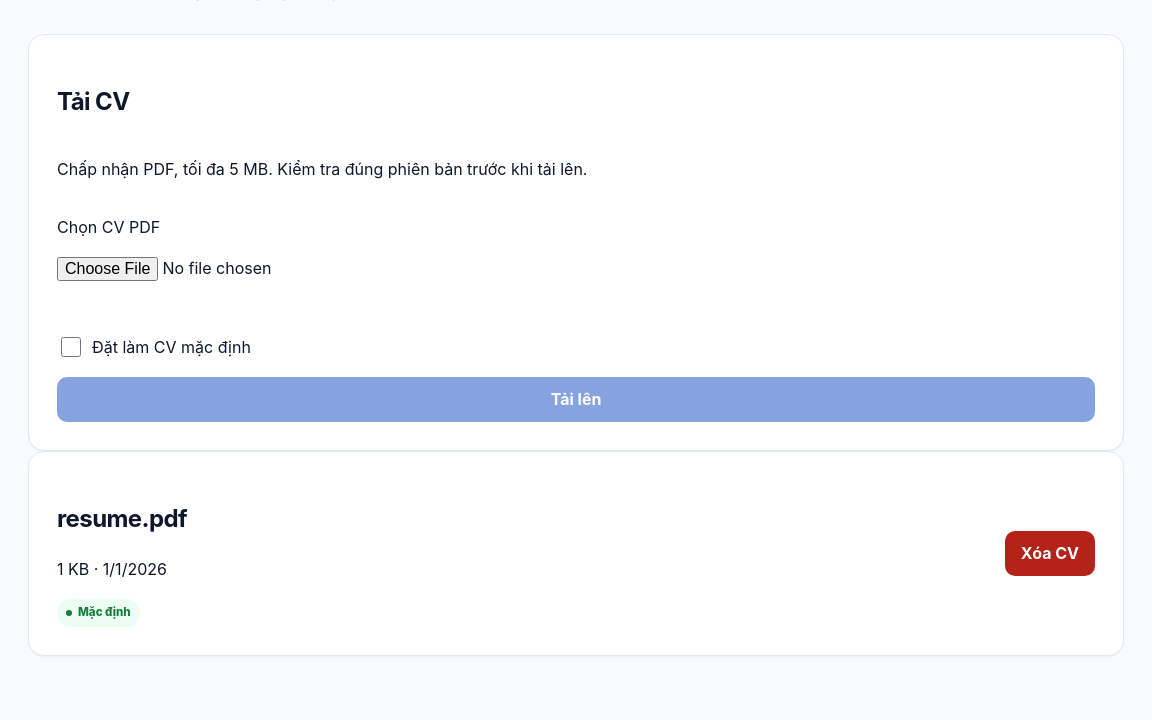
Test: UX journeys › confirms CV deletion and presents recoverable errors
The image size is (1152, 720).
(page scrolled)
What coordinates should you click on to do the following:
click the button named "Xóa resume.pdf"
I would click on:
 (1050, 554)
Its box is [1005,531,1095,576].
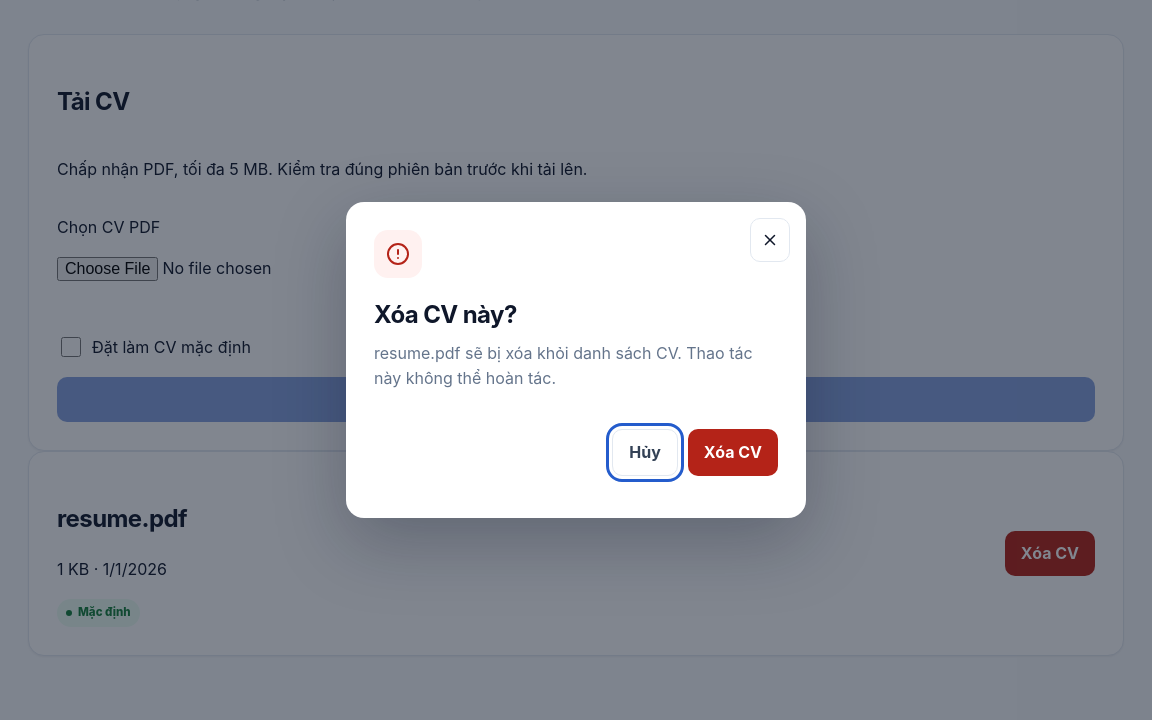
What coordinates should you click on to do the following:
click the button "Xóa CV"
I would click on:
 (733, 452)
Its box is [688,429,778,476].
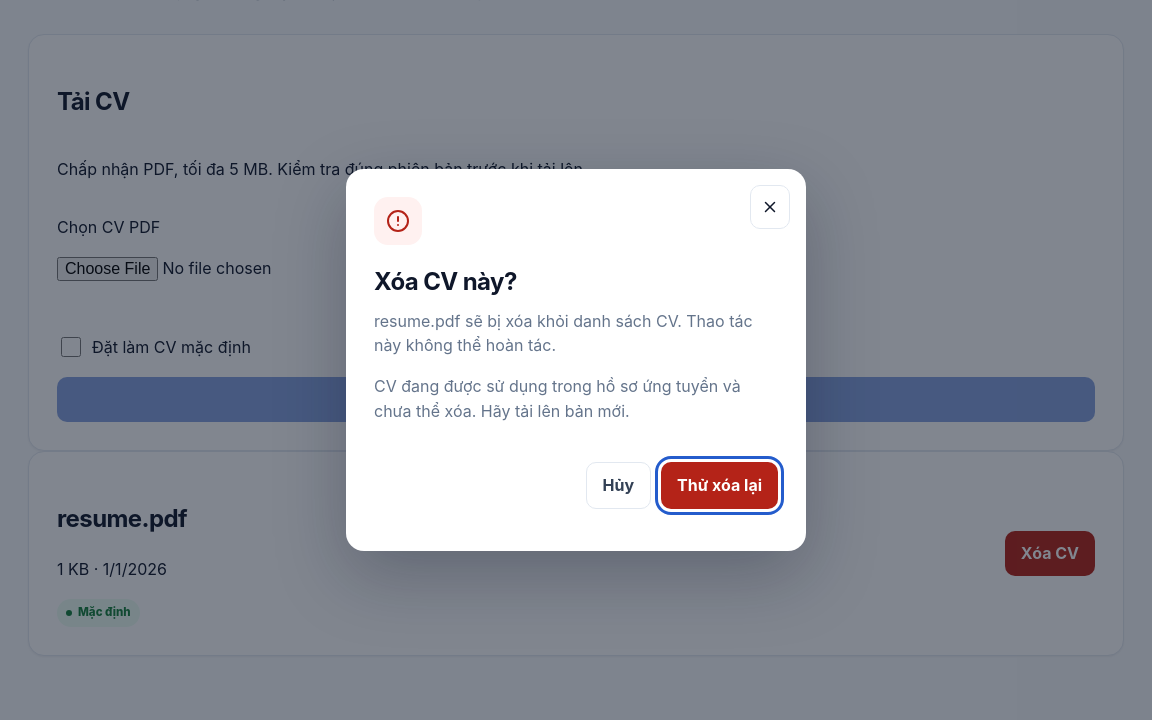
Check: the text "CV đang được sử dụng" is shown, box [374,376,741,421]
